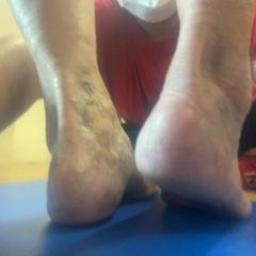Back View -Both Feet-: (20, 40, 254, 234)
